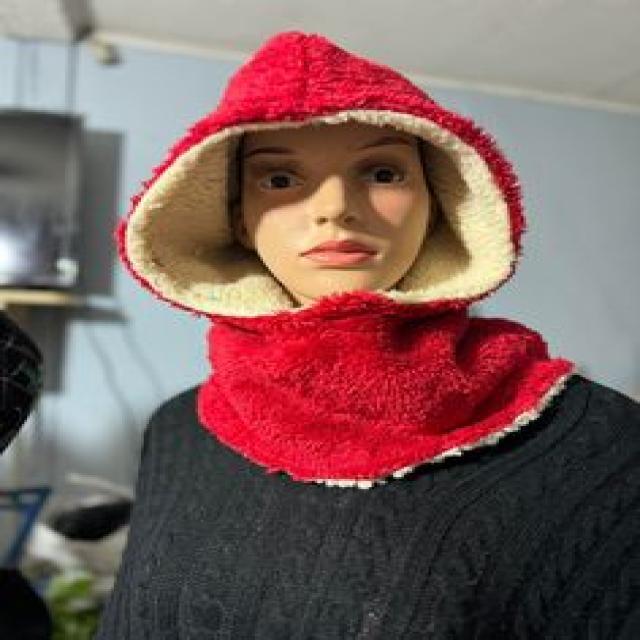4_capucha: (112, 30, 576, 320)
